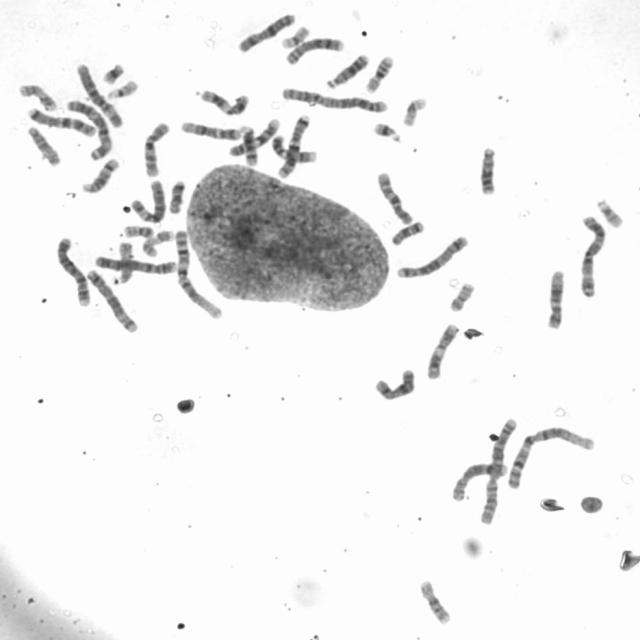A1: (502, 423, 598, 490), (170, 226, 224, 320)
A2: (476, 414, 520, 526), (277, 82, 391, 114)
A3: (64, 96, 115, 161), (576, 211, 608, 298)
B4: (53, 232, 92, 308), (91, 250, 179, 276)
B5: (82, 265, 140, 334), (393, 231, 471, 280)
C10: (374, 167, 416, 226), (140, 118, 172, 178)
C11: (423, 320, 461, 380), (196, 85, 252, 116)
C12: (177, 117, 243, 141), (543, 266, 567, 330)
C6: (72, 59, 128, 129), (127, 176, 167, 224)
C7: (274, 111, 313, 179), (24, 103, 97, 137)
C8: (448, 458, 508, 503), (282, 33, 346, 66)
C9: (226, 115, 282, 158), (269, 130, 319, 165)
D13: (322, 49, 371, 90), (476, 142, 499, 195)
D14: (79, 154, 122, 194), (236, 121, 260, 167)
D15: (23, 122, 63, 167), (112, 238, 136, 285)
E16: (416, 576, 453, 626), (362, 51, 396, 94)
E17: (15, 79, 60, 112), (138, 226, 175, 258)
E18: (388, 217, 427, 246), (165, 177, 188, 214)
F19: (400, 93, 429, 128), (278, 22, 311, 49)
F20: (446, 278, 477, 312), (120, 221, 155, 239)
G21: (370, 117, 403, 144), (99, 59, 127, 85)
G22: (592, 194, 626, 229), (104, 76, 140, 101)
X: (234, 8, 299, 54), (371, 364, 418, 402)
